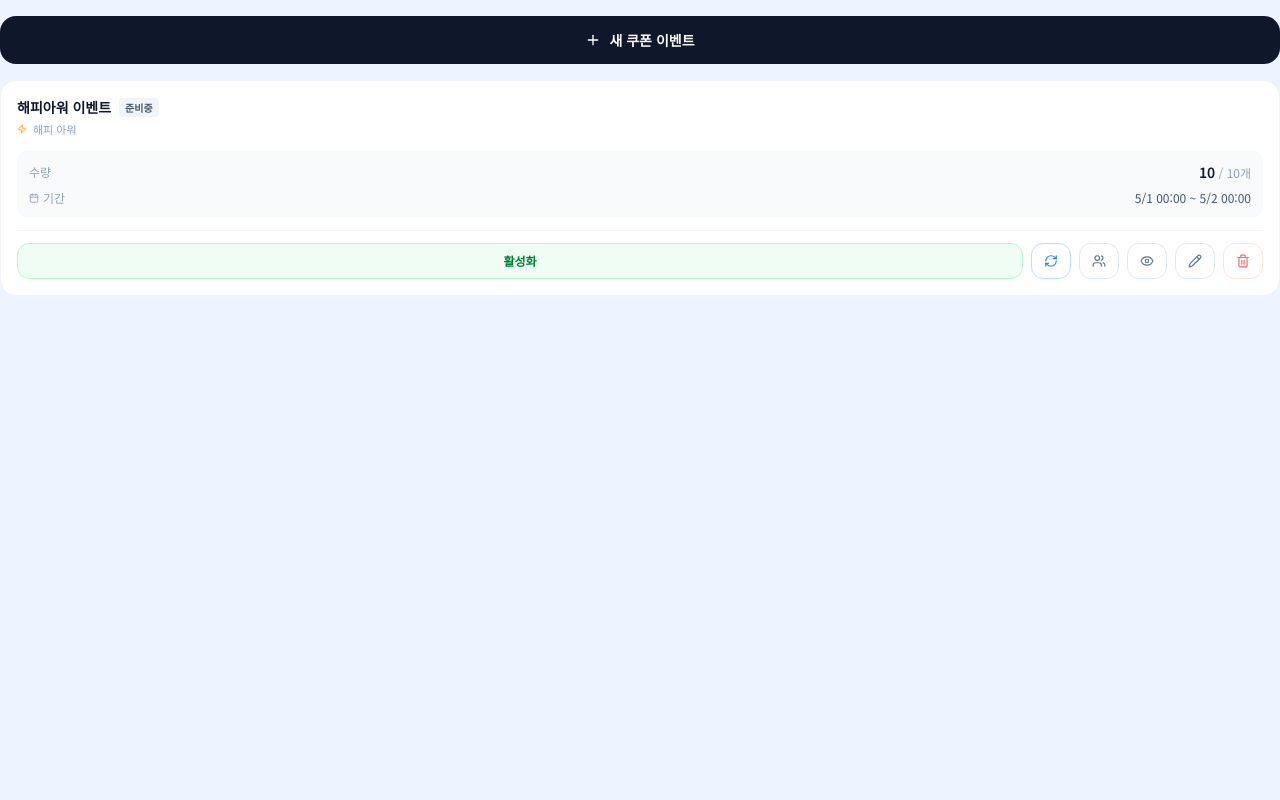
Test: CouponEventsTab › 삭제 버튼 클릭 시 확인 모달 열림
This screenshot has width=1280, height=800.
Expected: the text "해피아워 이벤트" is shown, [17,97,111,117]
Click the button named "삭제": coordinates (1243, 260) [1223,242,1263,278]
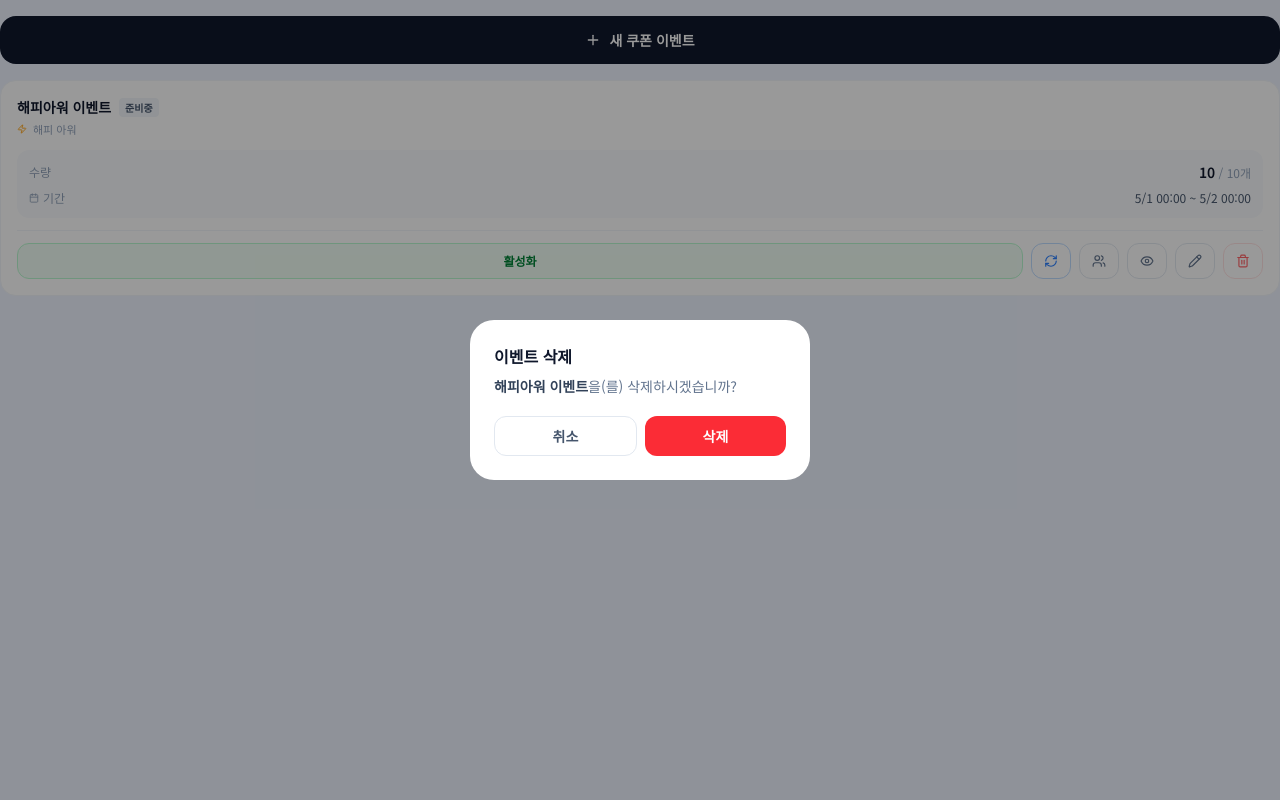
Now the heading "이벤트 삭제" is shown, box [494,344,572,368]
Now the text "을(를) 삭제하시겠습니까?" is shown, box [588,376,737,396]
